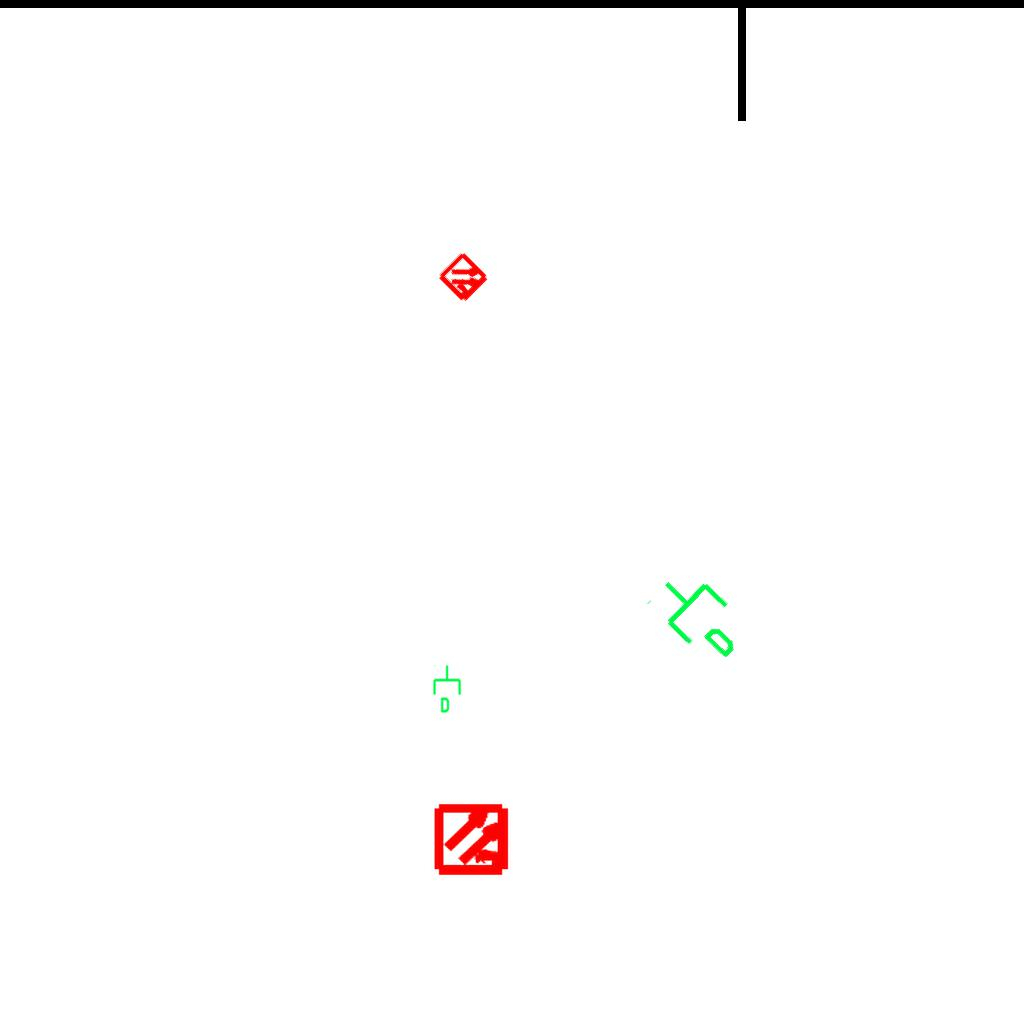Datenanschluss_einfach: (641, 555, 762, 675), (431, 664, 465, 714)
OT_Multisensormelder_(Kombination_RMO_WMD): (417, 783, 530, 896), (424, 238, 504, 318)
